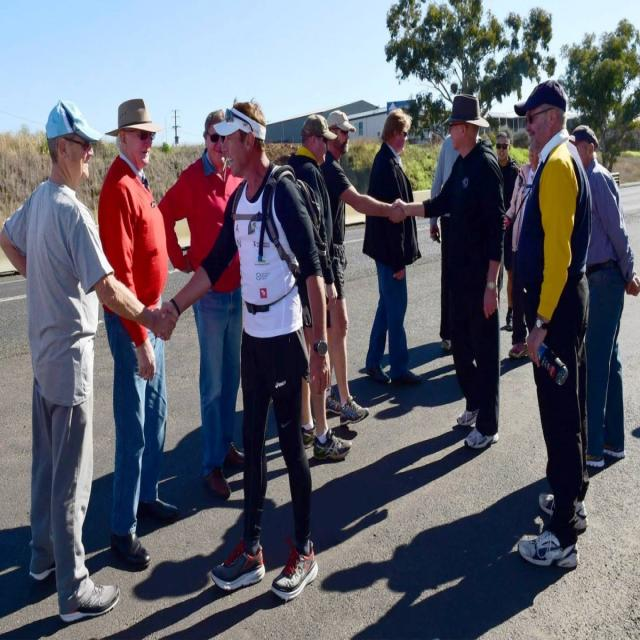body: (0, 333, 639, 639), (0, 96, 179, 629), (152, 94, 333, 602), (388, 94, 505, 448), (97, 97, 181, 575), (513, 79, 592, 570), (156, 106, 247, 501), (320, 109, 408, 427), (568, 123, 640, 469), (287, 113, 353, 462), (359, 104, 427, 390), (427, 89, 497, 357), (503, 140, 542, 361), (494, 128, 522, 332)
